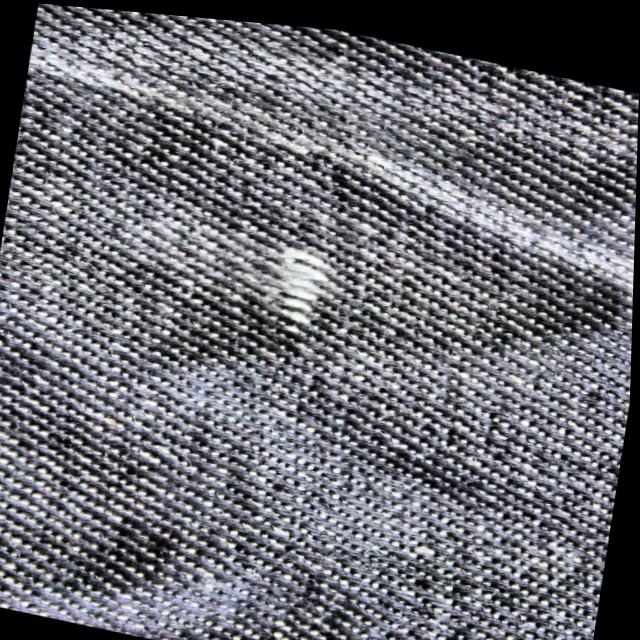Hole: (274, 246, 330, 329)
